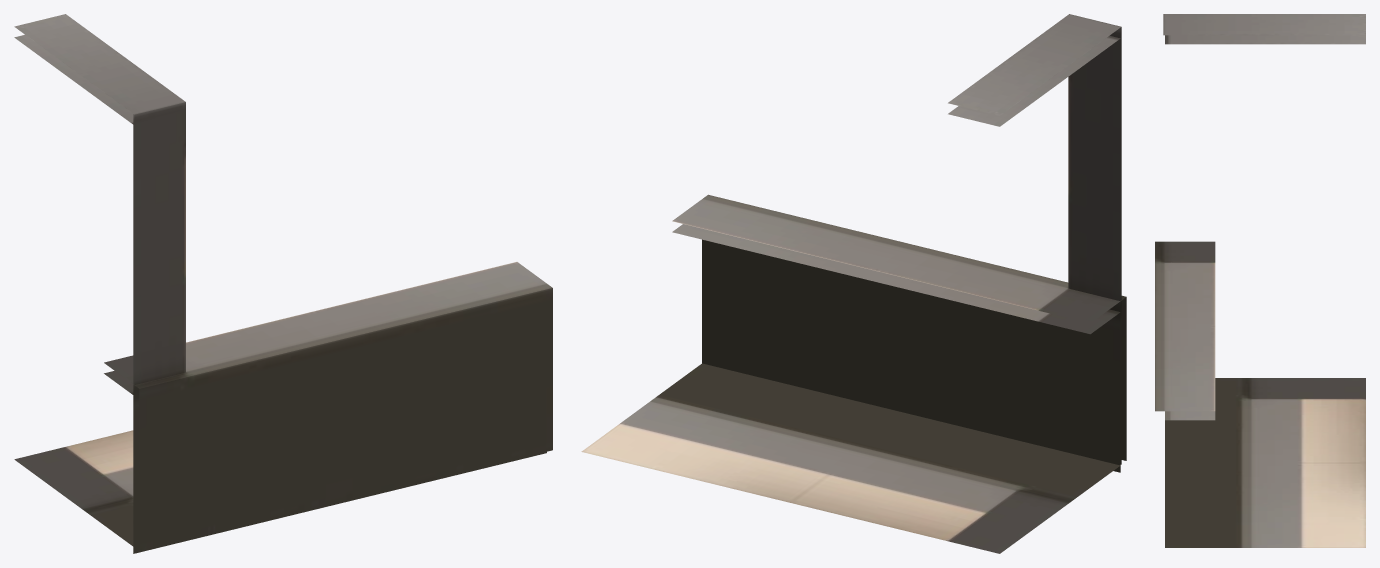
Rendered from front-left.glb.
3 renders of one model, left to right at view 1: azimuth 30°, elevation 25°; view 2: azimuth 150°, elevation 25°; view 3: azimuth 270°, elevation 25°, orthographic. The views are drawn at different scales.
Parts seen in each view (by area): view 1: frontLeft; view 2: frontLeft; view 3: frontLeft.
Part boxes in pixels (<box>): frontLeft: <box>14,14,552,553</box>; frontLeft: <box>581,14,1126,553</box>; frontLeft: <box>1155,14,1365,547</box>.
Size of the model in its own units: 1.2 by 1.22 by 0.63.
Materials: 1 (1 with a texture image).
